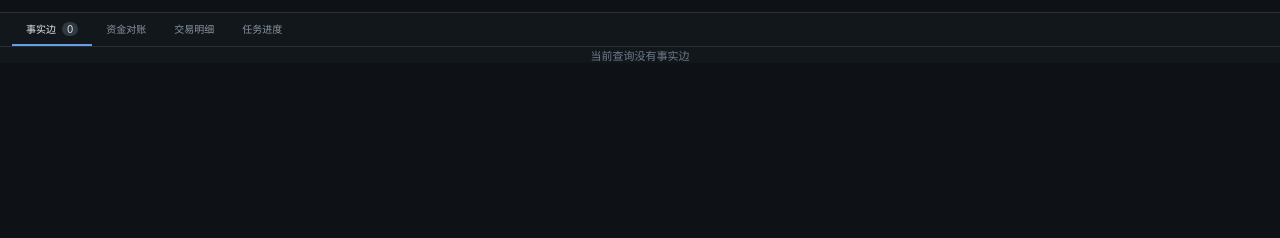
Test: BottomPanel › shows the configured record limit for a partial sync
Click the button "任务进度": [262, 30] box [228, 13, 296, 46]
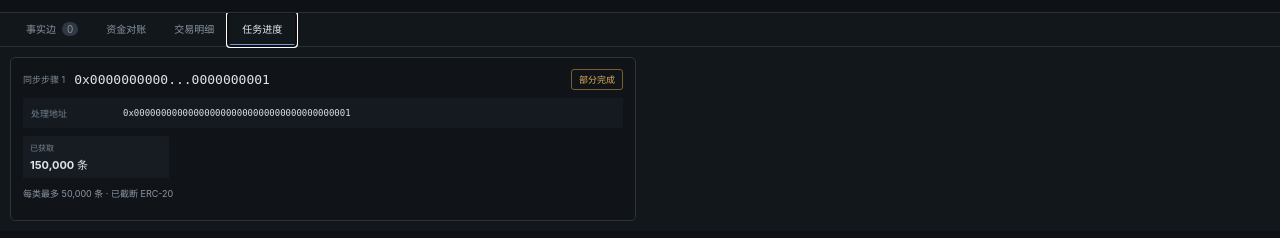
Check: the text "每类最多 50,000 条 · 已截断 ERC-20" is shown, box [23, 188, 173, 199]
